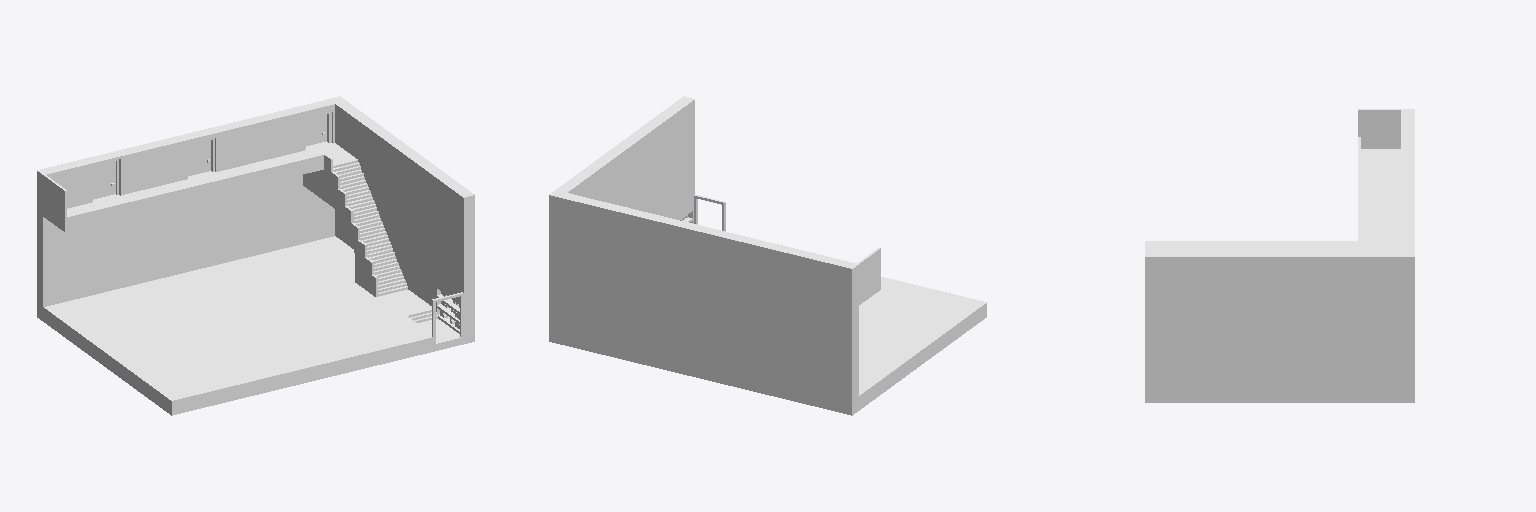
The model's file is interiorr-1.obj.
3 views of the same model, side by side, from view 1: azimuth 30°, elevation 25°; view 2: azimuth 150°, elevation 25°; view 3: azimuth 270°, elevation 25° (orthographic).
Visible parts, largest first — view 1: object 1; view 2: object 1; view 3: object 1.
Boxes of the visible parts, <box> form: object 1: <box>37,96,474,415</box>; object 1: <box>549,96,986,415</box>; object 1: <box>1145,109,1414,402</box>.
Bounding box in the file's own units: 13 × 6 × 10.